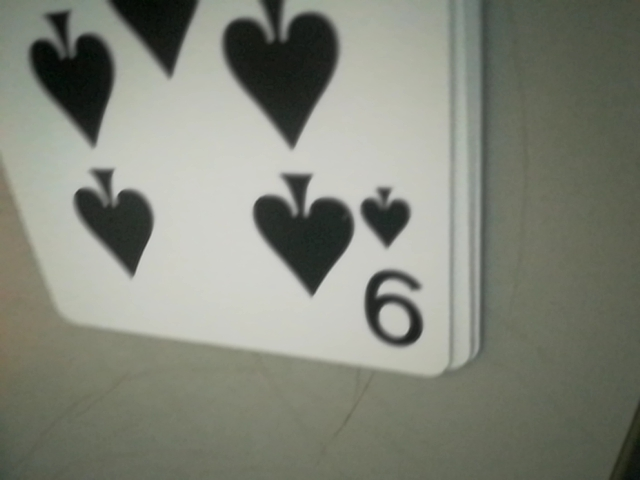ht 9: (358, 178, 437, 361)
